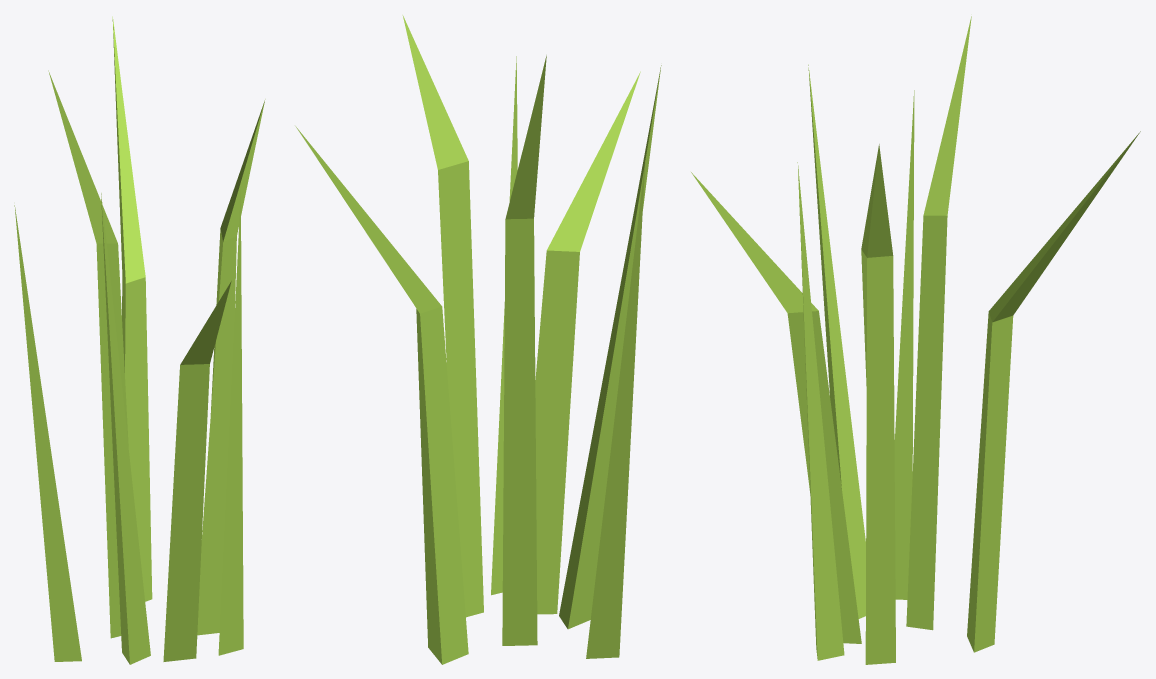
Rendered from Grass4.fbx.
The picture shows the model from 3 angles, left to right: view 1: azimuth 30°, elevation 25°; view 2: azimuth 150°, elevation 25°; view 3: azimuth 270°, elevation 25°; orthographic projection. The views are drawn at different scales.
Visible parts, largest first — view 1: Cylinder.001; view 2: Cylinder.001; view 3: Cylinder.001.
Part boxes in pixels (left/top/right/bottom): Cylinder.001: left=14, top=16, right=265, bottom=664; Cylinder.001: left=295, top=15, right=661, bottom=664; Cylinder.001: left=691, top=16, right=1140, bottom=664.
Size of the model in its own units: 68.29 by 156 by 108.
